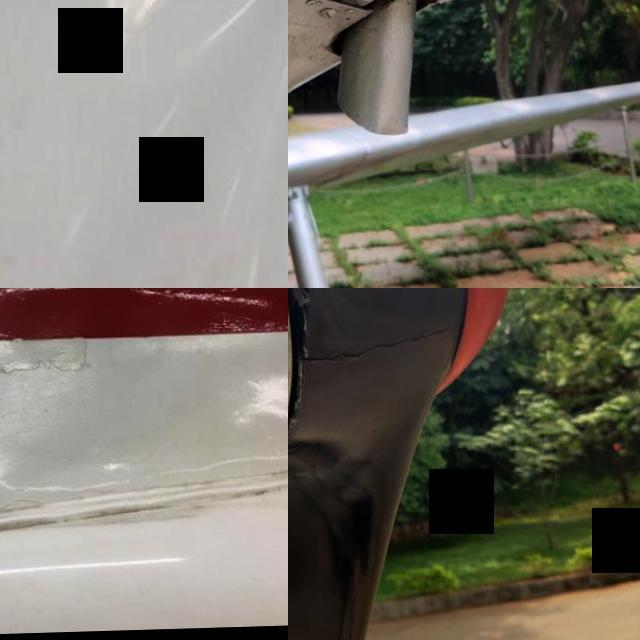Crack: (294, 312, 461, 385), (0, 334, 88, 386), (50, 486, 123, 504), (0, 497, 42, 523)
Dent: (325, 0, 491, 27)
